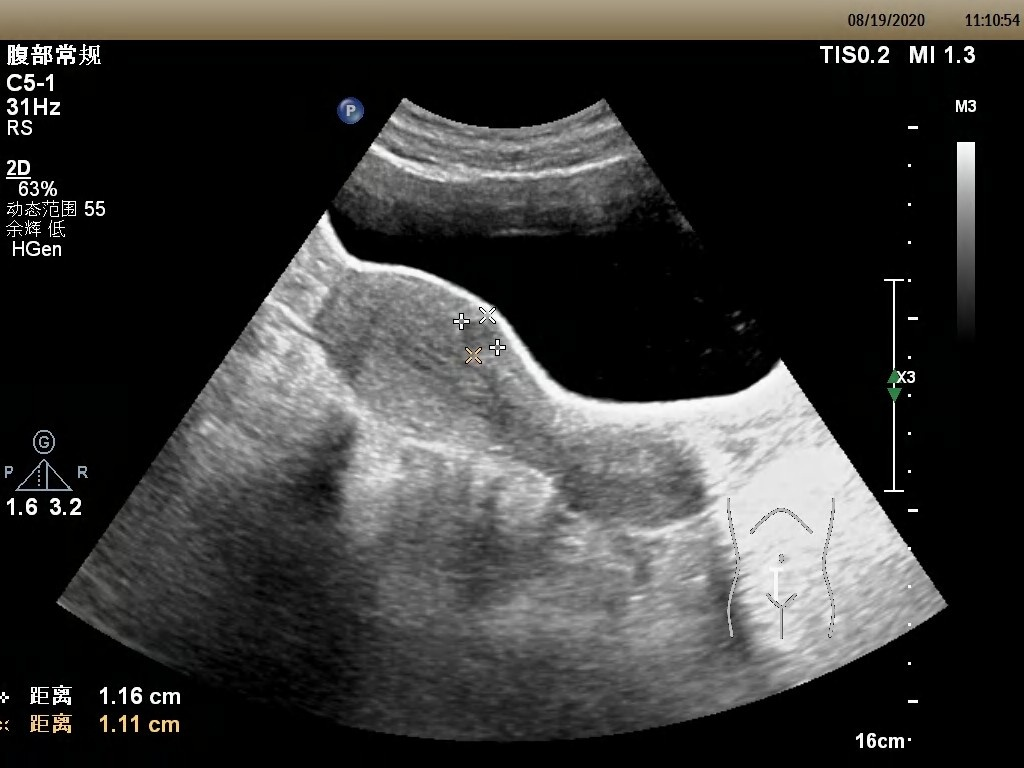肌瘤: (460, 316, 498, 354)
